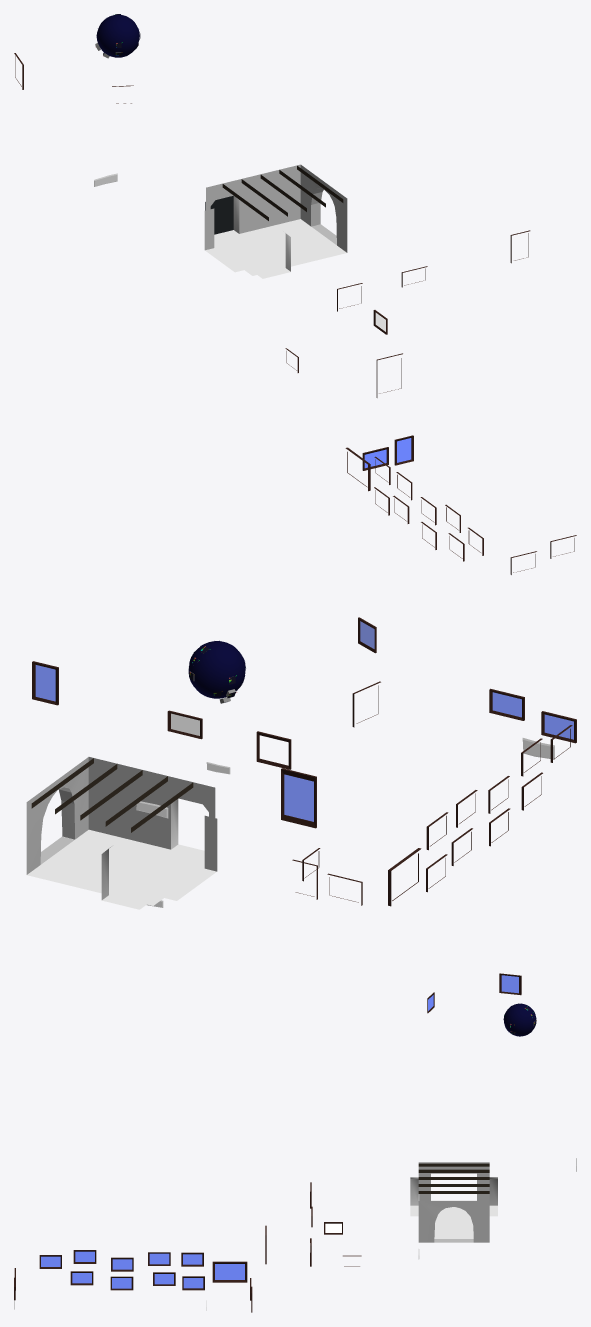
The picture shows the model from 3 angles, top to bottom: view 1: azimuth 30°, elevation 25°; view 2: azimuth 150°, elevation 25°; view 3: azimuth 270°, elevation 25°; orthographic projection. The views are drawn at different scales.
Parts seen in each view (by area): view 1: floor2EmptyHallRoom, wall1, object 3; view 2: floor2EmptyHallRoom, wall1, object 3, sinkaPicture, sinkaFrame, object 151, object 132, object 134, frame, kidLyingImage, object 150, plaque; view 3: floor2EmptyHallRoom, wall1, object 3, object 114.
Boxes of the visible parts, bbox=[...] form: floor2EmptyHallRoom: bbox=[204, 164, 346, 278]; wall1: bbox=[300, 165, 347, 252]; object 3: bbox=[96, 14, 139, 57]; floor2EmptyHallRoom: bbox=[27, 757, 217, 909]; wall1: bbox=[26, 757, 88, 874]; object 3: bbox=[188, 641, 245, 698]; sinkaPicture: bbox=[284, 774, 313, 821]; sinkaFrame: bbox=[281, 768, 316, 828]; object 151: bbox=[35, 665, 55, 701]; object 132: bbox=[492, 692, 521, 717]; object 134: bbox=[544, 714, 573, 739]; frame: bbox=[256, 731, 291, 769]; kidLyingImage: bbox=[171, 713, 199, 735]; object 150: bbox=[32, 661, 58, 705]; plaque: bbox=[522, 738, 554, 759]; floor2EmptyHallRoom: bbox=[410, 1162, 497, 1238]; wall1: bbox=[418, 1201, 489, 1242]; object 3: bbox=[503, 1003, 536, 1036]; object 114: bbox=[215, 1264, 244, 1279].
Size of the model in its own units: 20.3 by 17.67 by 33.74.
